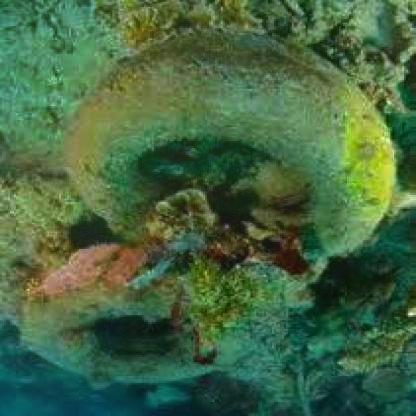tire: (55, 28, 400, 252), (8, 244, 290, 392)
